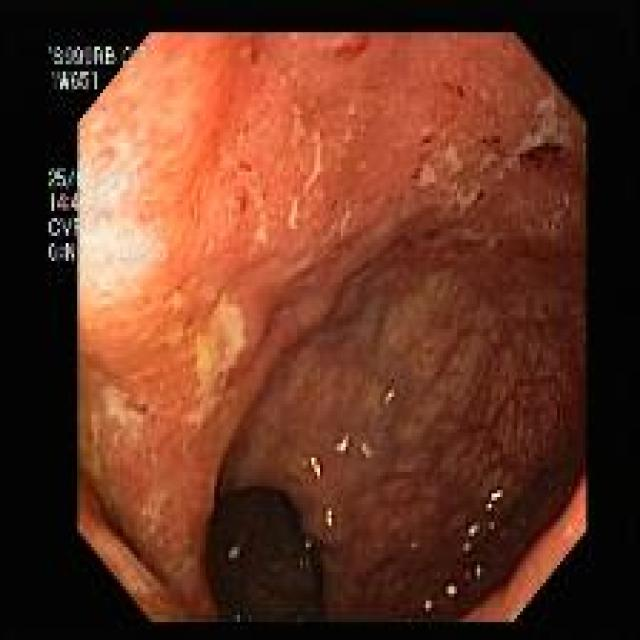ulcerative-colitis: (80, 34, 584, 620)
